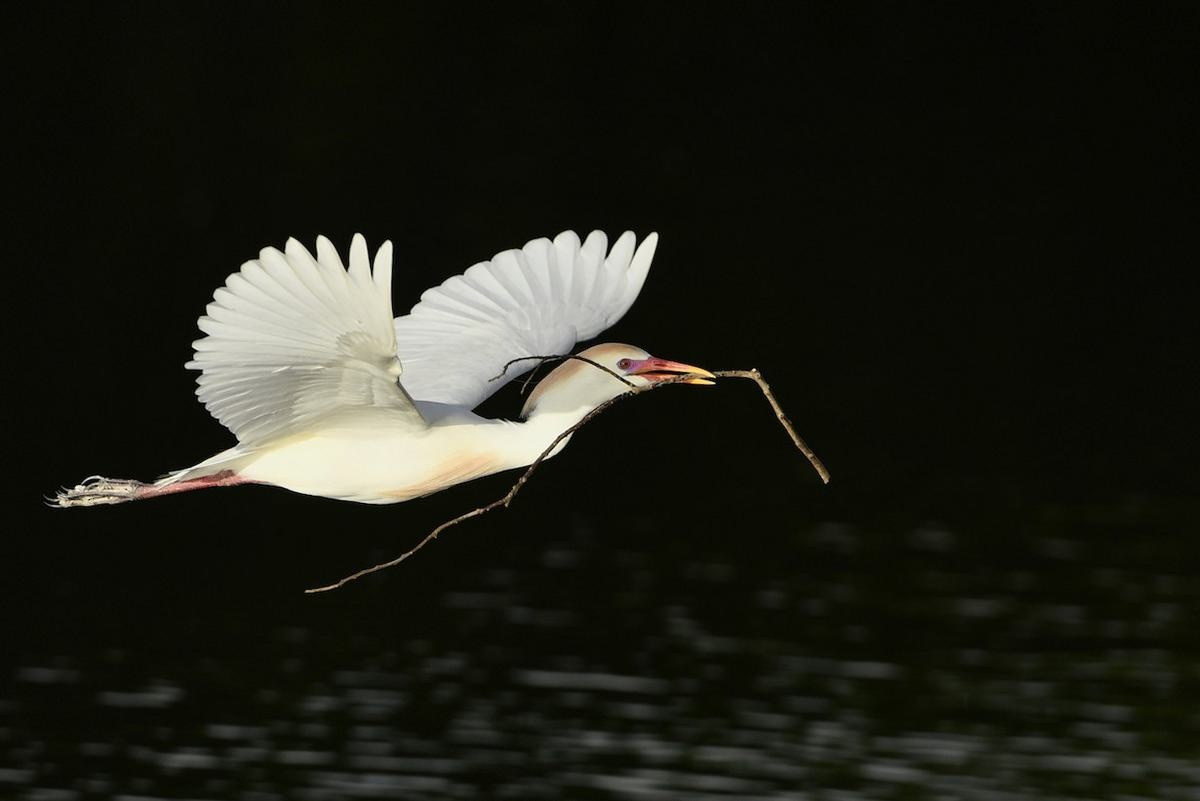egret: (30, 202, 750, 570)
